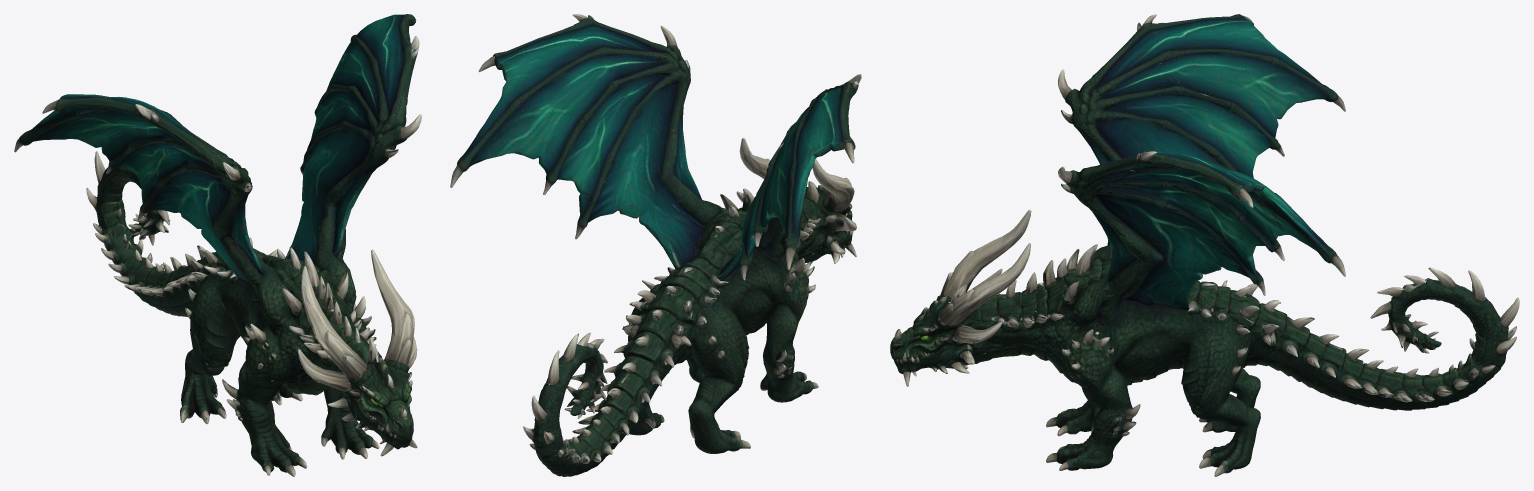
Rendered from forest_dragon_thornwing.glb.
The picture shows the model from 3 angles, left to right: view 1: azimuth 30°, elevation 25°; view 2: azimuth 150°, elevation 25°; view 3: azimuth 270°, elevation 25°; orthographic projection.
Parts seen in each view (by area): view 1: Mesh_0; view 2: Mesh_0; view 3: Mesh_0.
Boxes of the visible parts, <box> form: Mesh_0: <box>14,14,421,476</box>; Mesh_0: <box>450,14,861,476</box>; Mesh_0: <box>890,14,1519,476</box>.
Bounding box in the file's own units: 1.31 × 1.21 × 1.9.
1 material, 1 textured.
